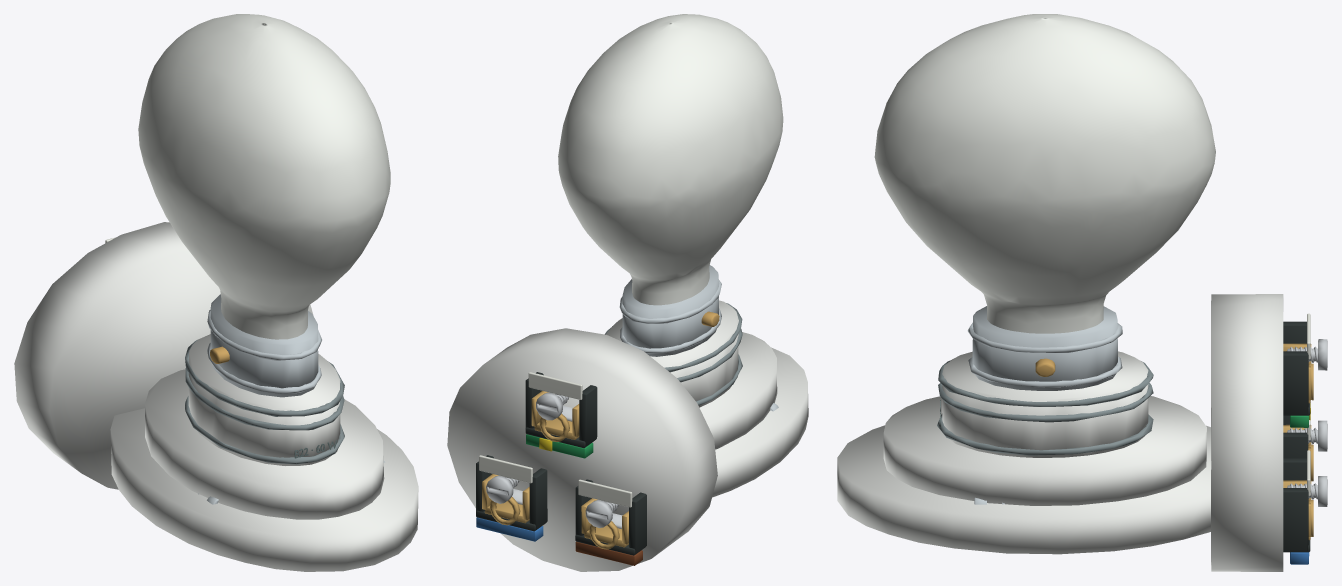
Rendered from lamp_bulb.low.glb.
3 renders of one model, left to right at view 1: azimuth 30°, elevation 25°; view 2: azimuth 150°, elevation 25°; view 3: azimuth 270°, elevation 25°, orthographic. The views are drawn at different scales.
Visible parts, largest first — view 1: Smooth pear bulb envelope, part:body · Satin moulded white plastic, part:terminals · Satin moulded white plastic, Ceramic B22 holder cap, part:pins · Brushed nickel fixings, part:body · Moulded recess; view 2: Smooth pear bulb envelope, part:terminals · Satin moulded white plastic, part:body · Satin moulded white plastic, part:pins · Brushed nickel fixings, Ceramic B22 holder cap, detail:terminal-clamp:PE · Detail moulded engineering polyme, detail:terminal-clamp:L · Detail moulded engineering polymer, detail:terminal-clamp:N · Detail moulded engineering polymer, part:body · Moulded recess, detail:terminal-clamp:PE · Detail machined brass, detail:terminal-clamp:N · Detail machined brass, detail:terminal-clamp:L · Detail machined brass (+9 smaller); view 3: Smooth pear bulb envelope, part:body · Satin moulded white plastic, part:terminals · Satin moulded white plastic, Ceramic B22 holder cap, part:pins · Brushed nickel fixings, part:body · Moulded recess, detail:terminal-clamp:N · Detail moulded engineering polymer, detail:terminal-clamp:PE · Detail moulded engineering polyme, detail:terminal-clamp:L · Detail moulded engineering polymer.
Boxes of the visible parts, box(x1,y1,x2,y2) form: Smooth pear bulb envelope: box(138, 14, 390, 339); part:body · Satin moulded white plastic: box(110, 369, 418, 571); part:terminals · Satin moulded white plastic: box(14, 222, 313, 489); Ceramic B22 holder cap: box(188, 334, 340, 465); part:pins · Brushed nickel fixings: box(207, 294, 321, 397); part:body · Moulded recess: box(185, 339, 344, 464); Smooth pear bulb envelope: box(558, 14, 783, 305); part:terminals · Satin moulded white plastic: box(447, 328, 717, 571); part:body · Satin moulded white plastic: box(699, 332, 808, 497); part:pins · Brushed nickel fixings: box(619, 265, 721, 356); Ceramic B22 holder cap: box(606, 300, 738, 407); detail:terminal-clamp:PE · Detail moulded engineering polyme: box(525, 372, 597, 448); detail:terminal-clamp:L · Detail moulded engineering polymer: box(575, 479, 646, 555); detail:terminal-clamp:N · Detail moulded engineering polymer: box(476, 455, 547, 531); part:body · Moulded recess: box(605, 303, 742, 405); detail:terminal-clamp:PE · Detail machined brass: box(531, 391, 579, 441); detail:terminal-clamp:N · Detail machined brass: box(482, 474, 529, 525); detail:terminal-clamp:L · Detail machined brass: box(581, 498, 628, 549); Smooth pear bulb envelope: box(874, 14, 1215, 333); part:body · Satin moulded white plastic: box(837, 396, 1211, 554); part:terminals · Satin moulded white plastic: box(1211, 294, 1283, 571); Ceramic B22 holder cap: box(942, 351, 1148, 457); part:pins · Brushed nickel fixings: box(967, 306, 1122, 390); part:body · Moulded recess: box(937, 360, 1153, 455); detail:terminal-clamp:N · Detail moulded engineering polymer: box(1283, 458, 1310, 552); detail:terminal-clamp:PE · Detail moulded engineering polyme: box(1283, 321, 1310, 415); detail:terminal-clamp:L · Detail moulded engineering polymer: box(1283, 415, 1308, 458).
Bounding box in the file's own units: 0.5179 × 0.9711 × 0.8047.
